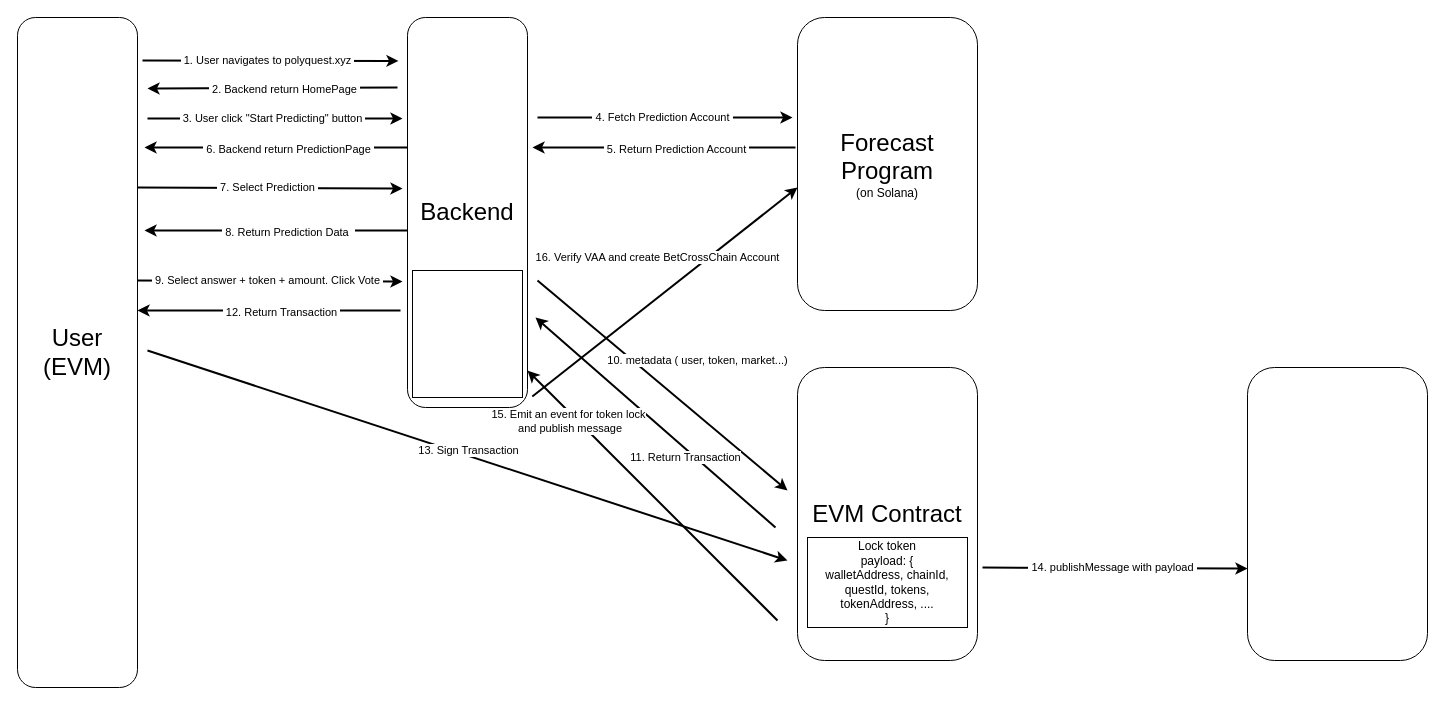
Image size: 1445x705. Some labels were removed from this diagram. The centre of each missing label's shape, as x and y in pixels:
"sequence tracker" goes at point (467, 334).
"Wormhole (Core Contract)" goes at point (1337, 513).
